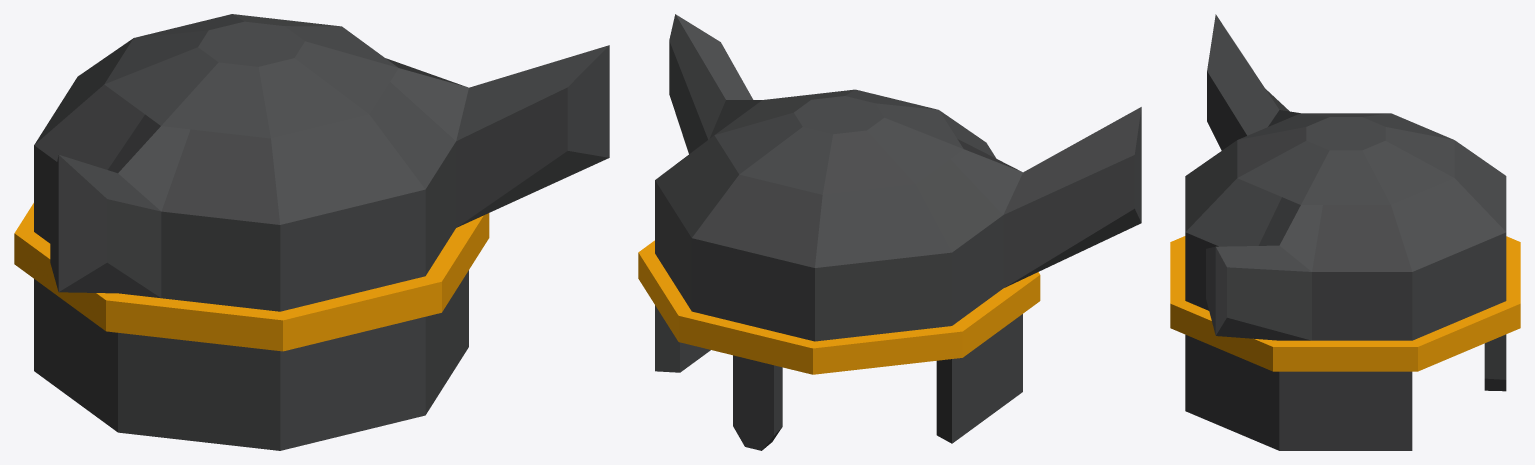
The model's file is goblin_helmet.fbx.
The picture shows the model from 3 angles, left to right: view 1: azimuth 30°, elevation 25°; view 2: azimuth 150°, elevation 25°; view 3: azimuth 270°, elevation 25°; orthographic projection. The views are drawn at different scales.
Visible parts, largest first — view 1: goblin_helmet; view 2: goblin_helmet; view 3: goblin_helmet.
Boxes of the visible parts, x1,y1,x2,y2 form: goblin_helmet: (14,14,609,450); goblin_helmet: (638,14,1141,450); goblin_helmet: (1170,14,1520,450).
Size of the model in its own units: 340 by 199 by 236.
Materials: 1 (1 with a texture image).
